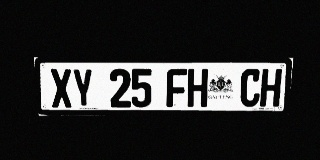2: (109, 69, 131, 107)
5: (131, 69, 152, 107)
C: (239, 69, 262, 107)
F: (166, 69, 187, 107)
H: (259, 69, 282, 107), (187, 69, 208, 107)
X: (49, 69, 73, 108)
Y: (71, 69, 94, 108)
